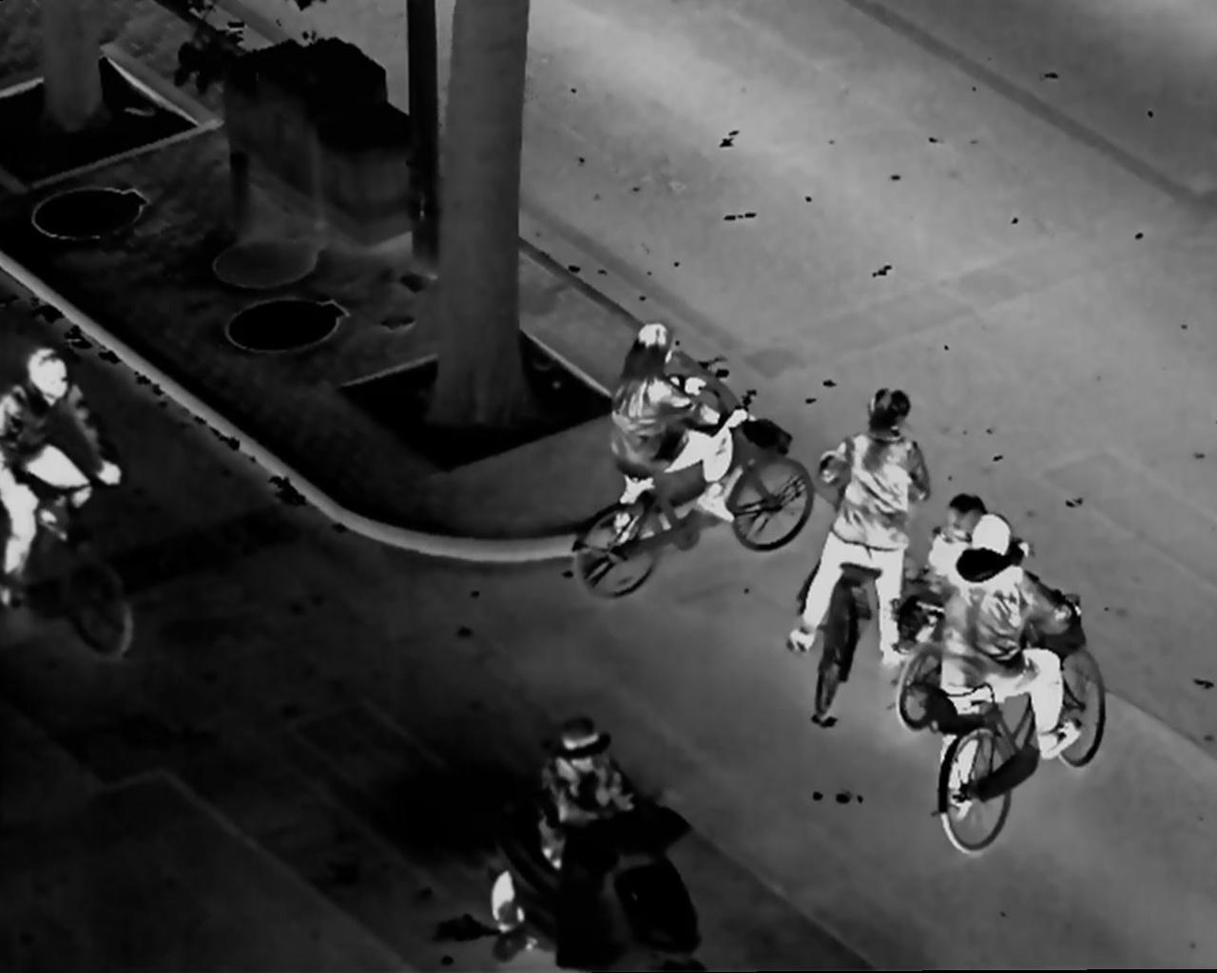person: (939, 512, 1084, 823), (788, 381, 931, 674), (603, 317, 763, 549), (515, 711, 652, 961), (927, 492, 993, 688)
